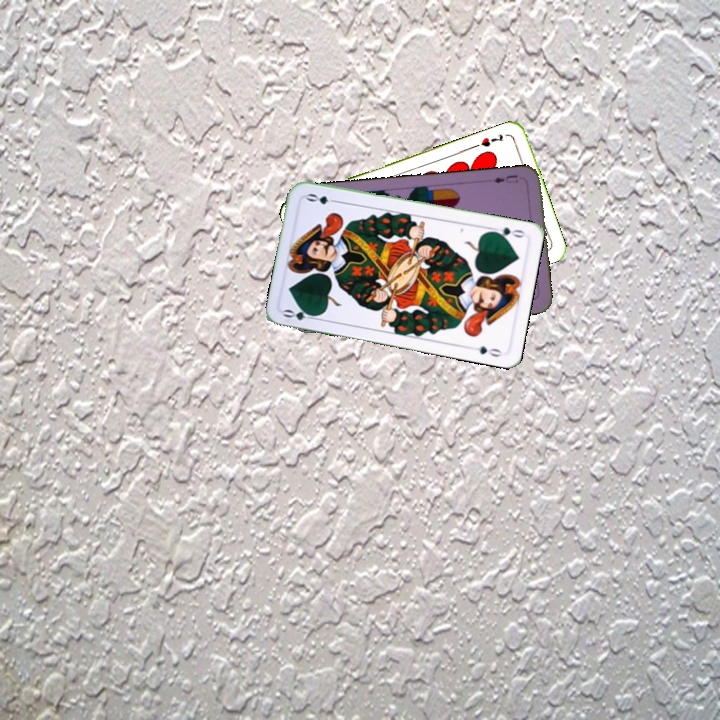EU: (489, 171, 520, 186)
GO: (279, 304, 321, 323), (487, 223, 527, 240)
H7: (477, 130, 506, 150)
